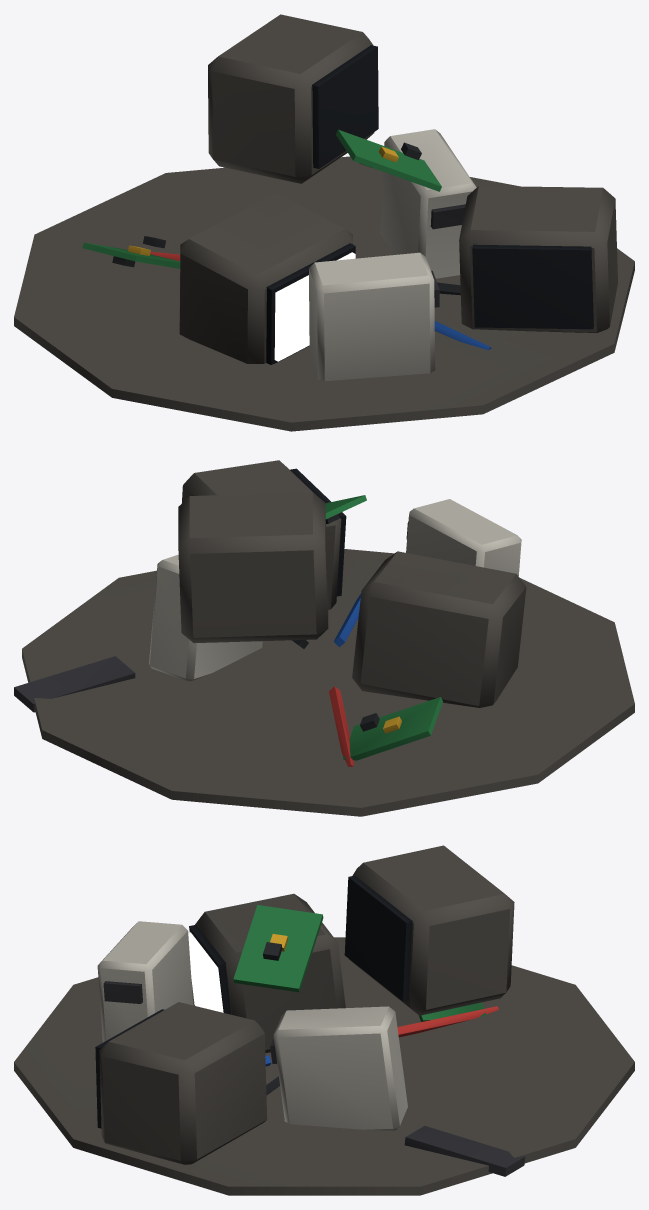
File: n_ewaste_1.glb
3 views of the same model, one above another, from view 1: azimuth 30°, elevation 25°; view 2: azimuth 150°, elevation 25°; view 3: azimuth 270°, elevation 25° (orthographic). The views are drawn at different scales.
Visible parts, largest first — view 1: body, screen_glow; view 2: body; view 3: body, screen_glow.
Boxes of the visible parts, x1=… form: body: x1=14, y1=14, x2=634, y2=431; screen_glow: x1=274, y1=252, x2=355, y2=361; body: x1=14, y1=460, x2=634, y2=816; body: x1=14, y1=845, x2=634, y2=1195; screen_glow: x1=188, y1=932, x2=223, y2=1012.
Bounding box in the file's own units: 3.04 × 1.21 × 3.2.
